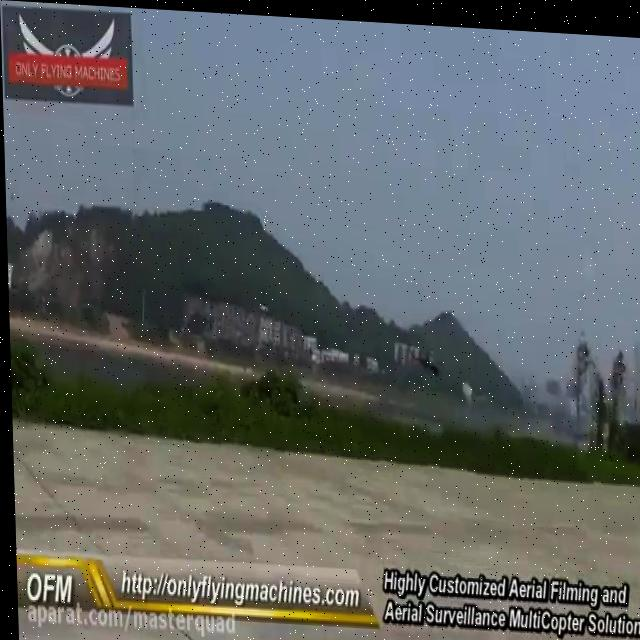drone: (408, 335, 440, 372)
